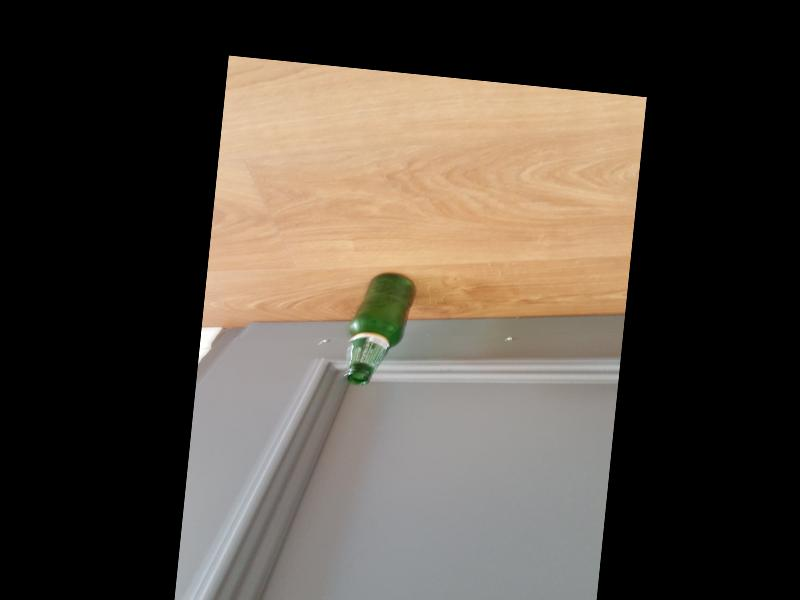Beer: (345, 270, 415, 387)
